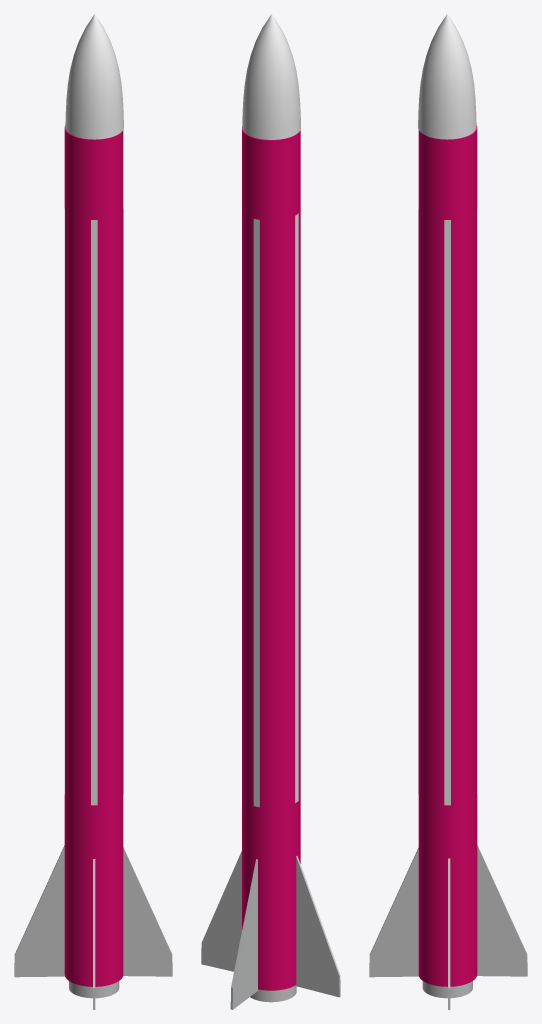
Rendered from missile-sa-maman.fbx.
3 renders of one model, left to right at view 1: azimuth 90°, elevation 25°; view 2: azimuth 150°, elevation 25°; view 3: azimuth 270°, elevation 25°, orthographic.
Visible parts, largest first — view 1: Cylinder, Cone, Cube_3, Cap_1, Cap_2_3, Cube_2, Cube_0, Cylinder_1, Wing_Extrude_3; view 2: Cylinder, Cone, Cube_0, Cap_2_4, Cap_1_2, Cube_3, Cap_1, Cylinder_1, Wing_Extrude_0; view 3: Cylinder, Cone, Cube_1, Cap_2, Cap_1_3, Cube_2, Cube_0, Cylinder_1, Wing_Extrude_1.
Boxes of the visible parts, x1,y1,x2,y2 form: Cylinder: [64, 125, 123, 986]; Cone: [65, 14, 123, 139]; Cube_3: [91, 220, 97, 805]; Cap_1: [14, 846, 64, 977]; Cap_2_3: [123, 848, 172, 976]; Cube_2: [123, 206, 123, 793]; Cube_0: [64, 209, 64, 793]; Cylinder_1: [69, 981, 119, 998]; Wing_Extrude_3: [93, 859, 95, 1009]; Cylinder: [242, 126, 300, 990]; Cone: [242, 14, 300, 139]; Cube_0: [253, 218, 259, 807]; Cap_2_4: [295, 857, 339, 997]; Cap_1_2: [201, 851, 241, 971]; Cube_3: [295, 213, 298, 803]; Cap_1: [232, 861, 258, 1009]; Cylinder_1: [250, 985, 296, 1002]; Wing_Extrude_0: [230, 859, 257, 1009]; Cylinder: [418, 125, 477, 986]; Cone: [418, 14, 476, 139]; Cube_1: [444, 220, 450, 805]; Cap_2: [477, 846, 527, 976]; Cap_1_3: [369, 849, 418, 977]; Cube_2: [418, 206, 418, 793]; Cube_0: [477, 209, 477, 793]; Cylinder_1: [422, 981, 472, 998]; Wing_Extrude_1: [448, 858, 450, 1009].
Bounding box in the file's own units: 216 × 1463 × 216.
